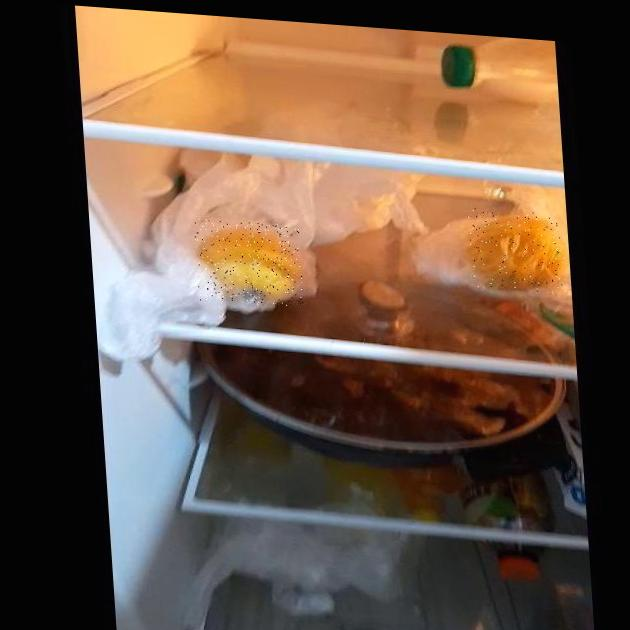lemon: (194, 218, 304, 308), (468, 208, 567, 294)
